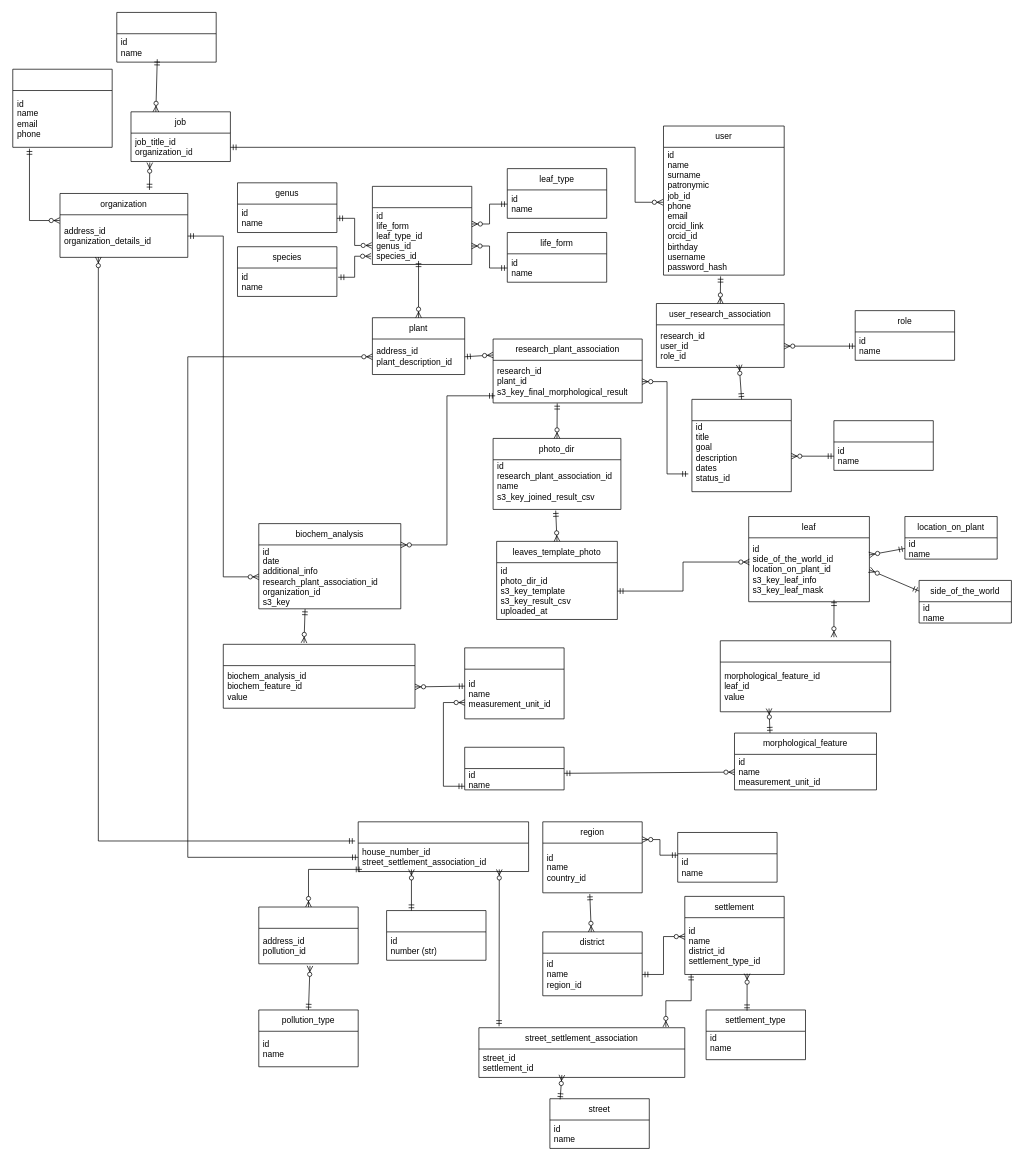
This 1024x1161 diagram has some shape labels left out. Here are the shapes that lost their labels. From the top down, the box of each, then its label:
(116, 12, 216, 62): job_title
(12, 69, 112, 147): organization_details
(372, 186, 472, 264): plant_description
(691, 399, 791, 492): research
(833, 420, 933, 470): status
(223, 644, 415, 708): biochem_analysis_feature_association
(464, 647, 564, 719): biochem_feature
(720, 640, 891, 712): morphological_feature_leaf_association
(464, 747, 564, 790): measurement_unit
(357, 821, 529, 872): address
(677, 832, 777, 882): country
(258, 906, 358, 964): pollutions_near_place
(386, 910, 486, 960): house_number
